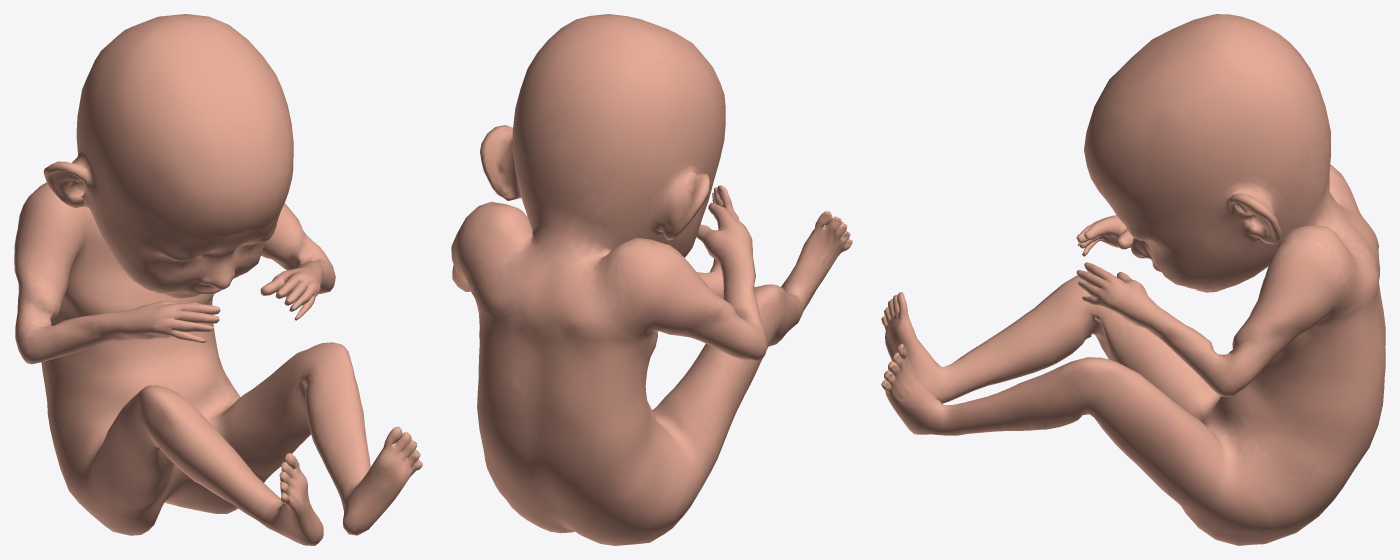
Rendered from pb-w28.22cdd80c.glb.
3 renders of one model, left to right at view 1: azimuth 30°, elevation 25°; view 2: azimuth 150°, elevation 25°; view 3: azimuth 270°, elevation 25°, orthographic.
Parts seen in each view (by area): view 1: Baby; view 2: Baby; view 3: Baby.
Boxes of the visible parts, left/top/right/bottom form: Baby: left=14, top=14, right=422, bottom=545; Baby: left=451, top=14, right=852, bottom=545; Baby: left=881, top=14, right=1385, bottom=545.
Size of the model in its own units: 0.1755 by 0.2717 by 0.249.
Materials: 1 (1 with a texture image).
